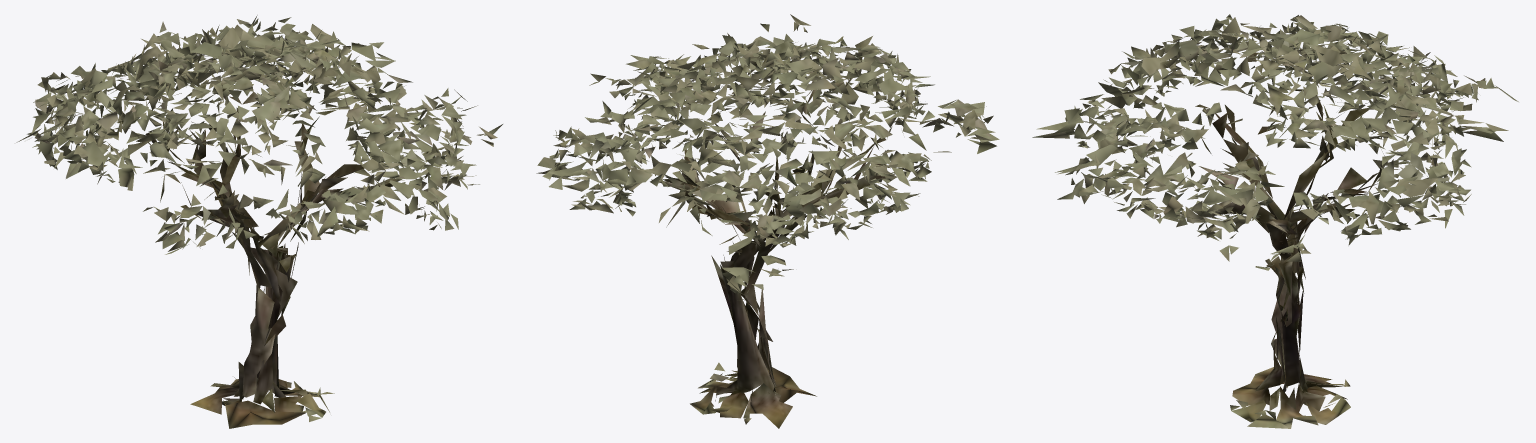
The model's file is acacia_espinhosa_jovem.glb.
3 views of the same model, side by side, from view 1: azimuth 30°, elevation 25°; view 2: azimuth 150°, elevation 25°; view 3: azimuth 270°, elevation 25° (orthographic). The views are drawn at different scales.
Parts seen in each view (by area): view 1: geometry_0; view 2: geometry_0; view 3: geometry_0.
Boxes of the visible parts, box(x1,y1,x2,y2) form: geometry_0: box(16, 15, 502, 428); geometry_0: box(536, 14, 999, 428); geometry_0: box(1032, 14, 1518, 428).
Bounding box in the file's own units: 0.8887 × 0.79 × 0.9873.
1 material, 1 textured.
